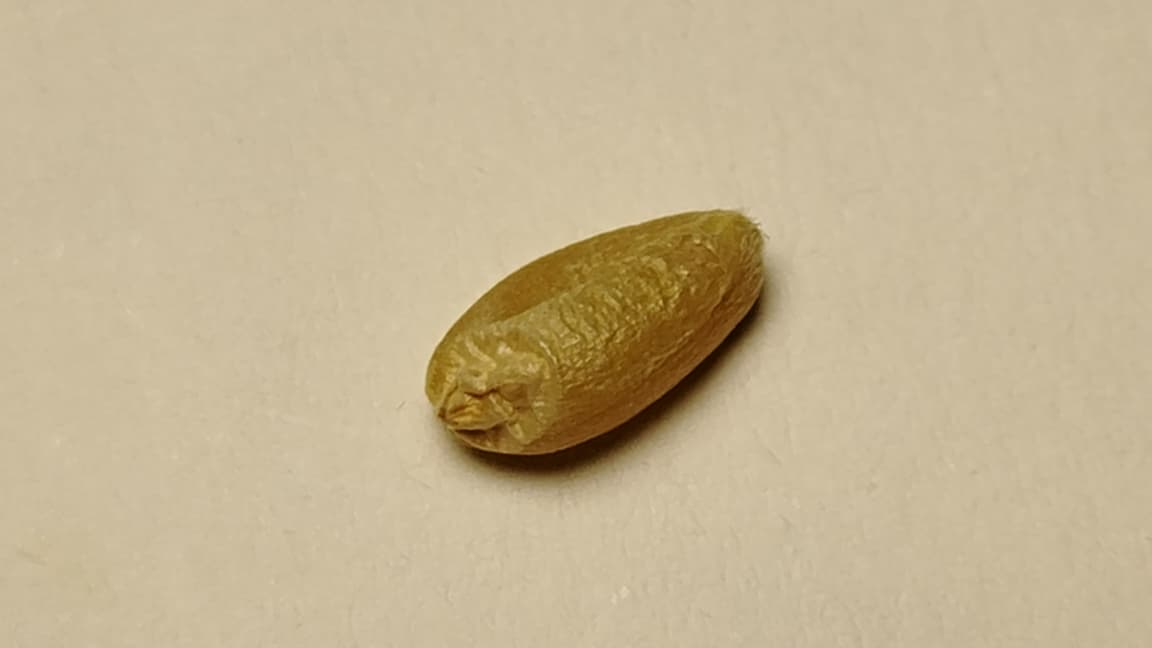healthy: (427, 210, 764, 454)
